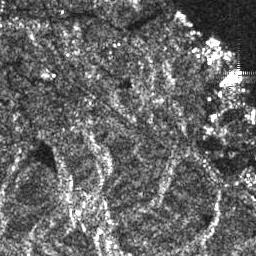ship: (220, 67, 242, 87), (175, 10, 189, 25), (250, 104, 256, 124), (209, 37, 220, 45)
